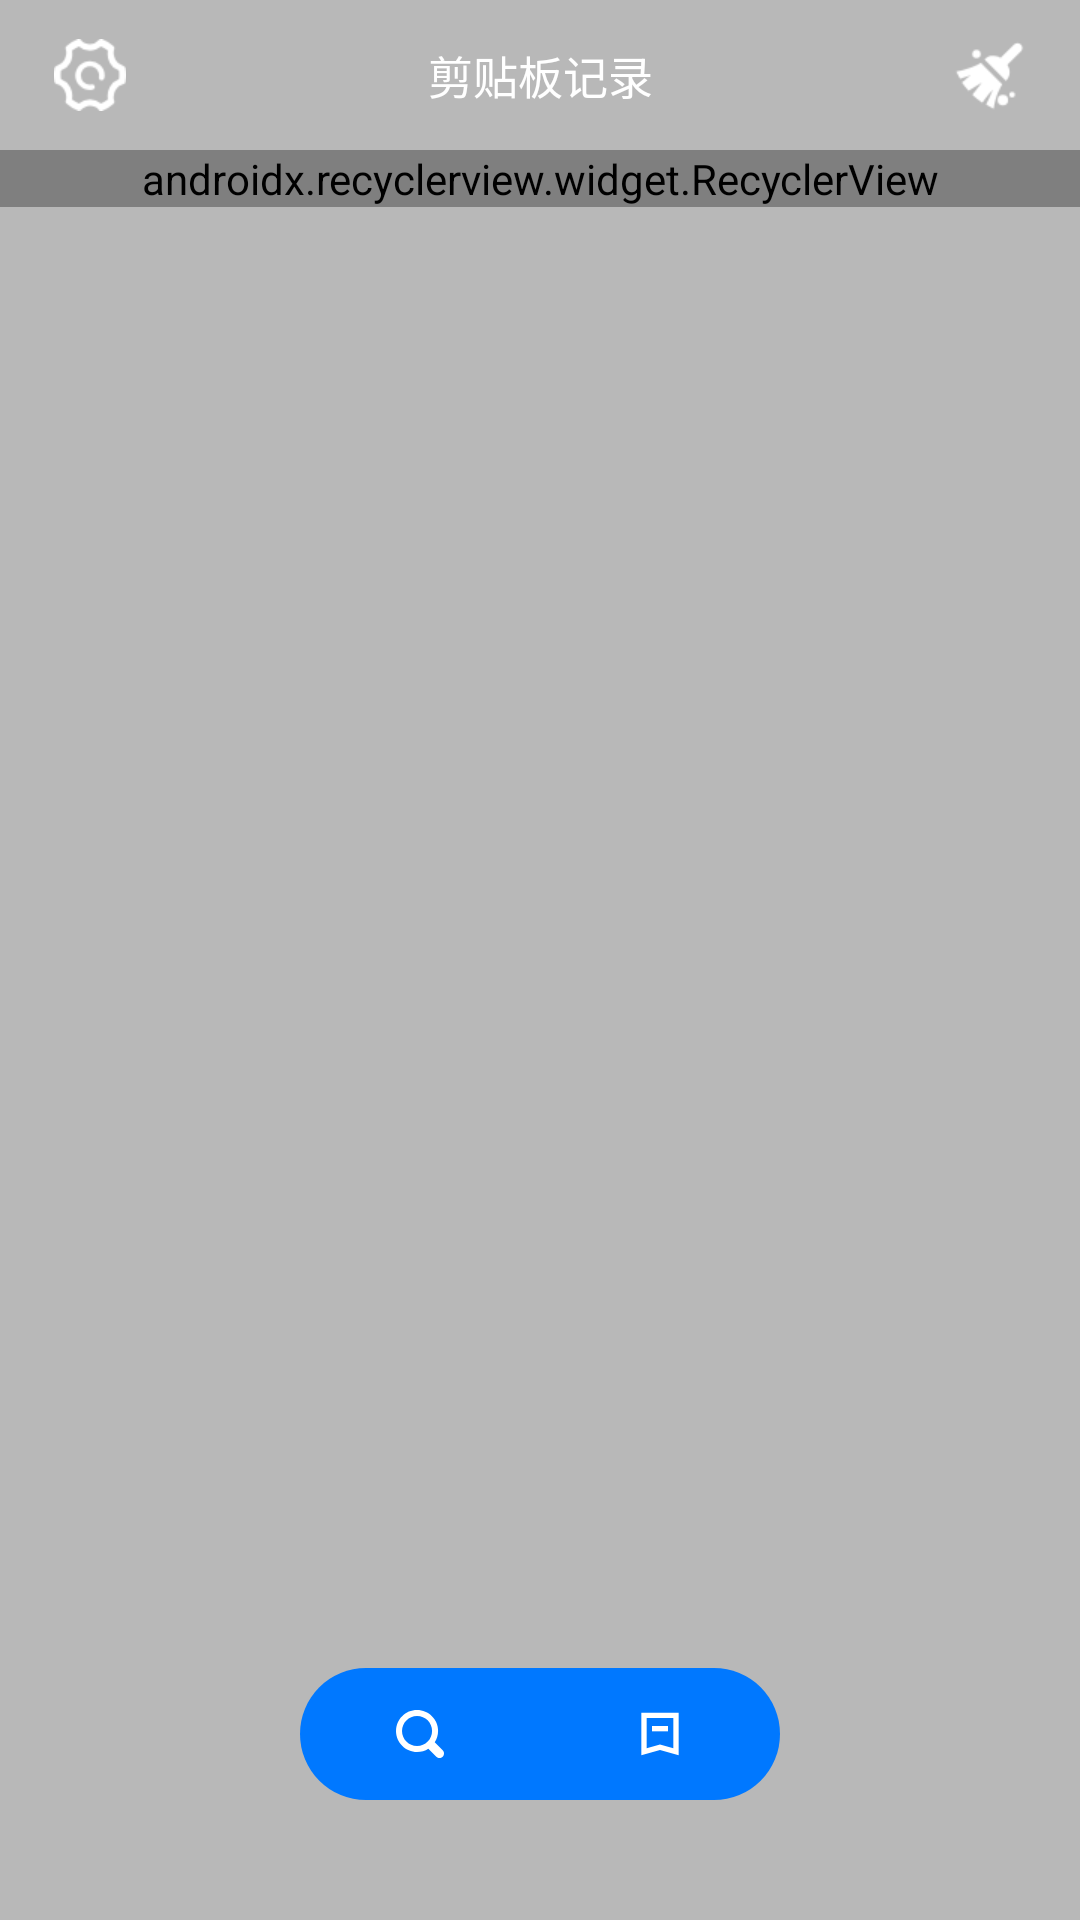

Icon click points for this 1080 × 1920 phone screenshot, format (x=x, y=y):
clip clean: (x=990, y=75)
clip collection: (x=660, y=1734)
clip search: (x=420, y=1734)
clip setting: (x=90, y=75)
